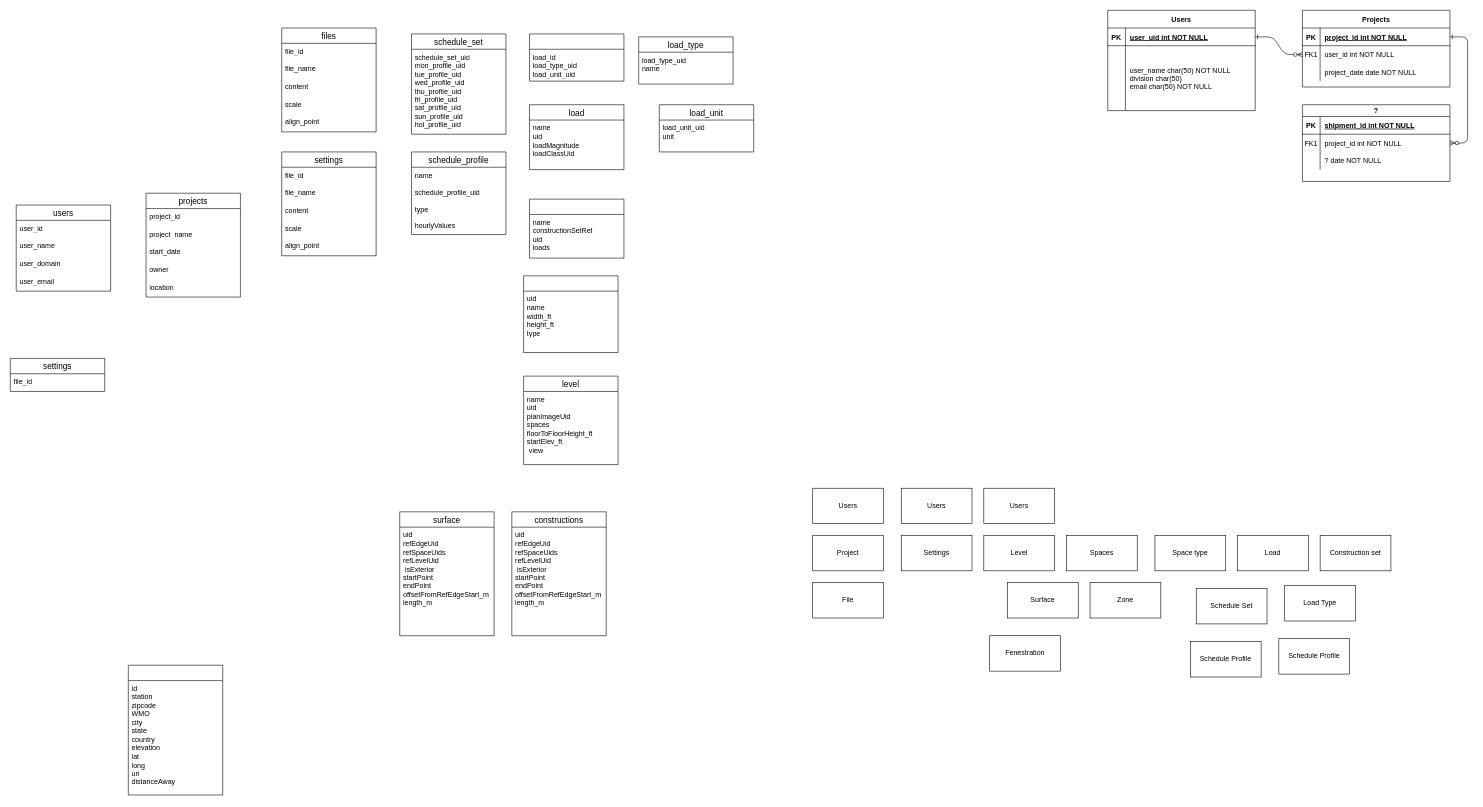
This 1483x807 diagram has some shape labels left out. Here are the shapes that lost their labels. From the top down, the box of each, then its label:
(529, 33, 624, 81): load_class
(529, 199, 624, 258): space
(523, 275, 618, 353): fenestration_type
(128, 665, 223, 795): weather_station
